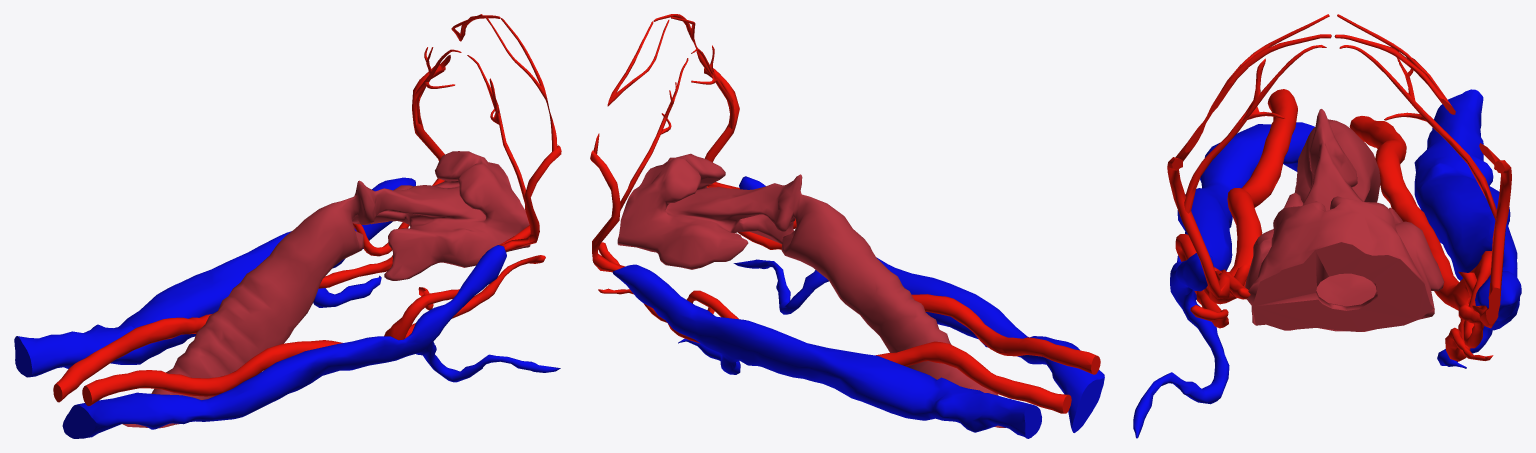
Rendered from TISSUES.fbx.
The picture shows the model from 3 angles, left to right: view 1: azimuth 30°, elevation 25°; view 2: azimuth 150°, elevation 25°; view 3: azimuth 270°, elevation 25°; orthographic projection. The views are drawn at different scales.
Visible parts, largest first — view 1: VENISARTERIASGLAND; view 2: VENISARTERIASGLAND; view 3: VENISARTERIASGLAND.
Boxes of the visible parts, <box> form: VENISARTERIASGLAND: <box>14,14,561,438</box>; VENISARTERIASGLAND: <box>590,14,1104,438</box>; VENISARTERIASGLAND: <box>1133,14,1521,438</box>.
Size of the model in its own units: 17.18 by 12.12 by 9.47.
